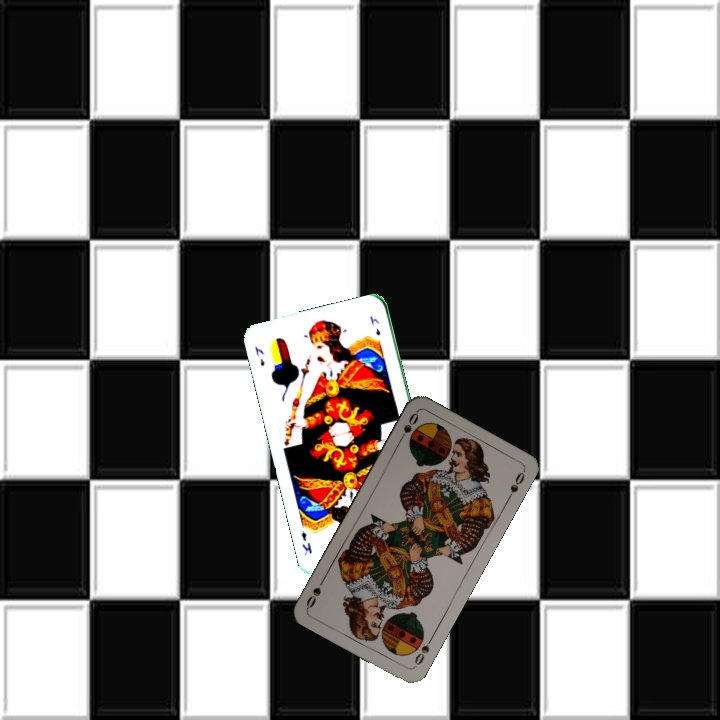EK: (250, 342, 267, 369)
SO: (394, 409, 421, 445), (410, 633, 436, 670)
